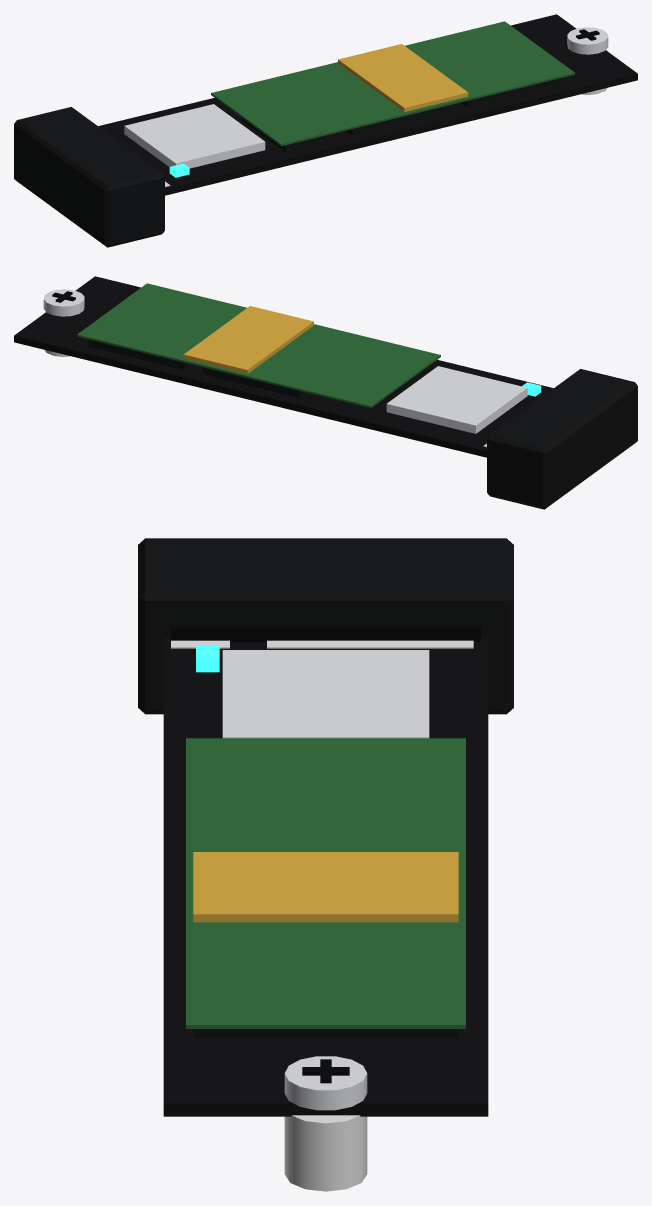
The model's file is hwm_sto_hdd_1tb.glb.
3 renders of one model, top to bottom at view 1: azimuth 30°, elevation 25°; view 2: azimuth 150°, elevation 25°; view 3: azimuth 270°, elevation 25°, orthographic. The views are drawn at different scales.
Visible parts, largest first — view 1: SSD_0, Slots, Screw_0; view 2: SSD_0, Slots, Screw_0; view 3: SSD_0, Slots, Screw_0.
Part boxes in pixels (left/top/right/bottom): SSD_0: left=98, top=14, right=637, bottom=195; Slots: left=14, top=49, right=607, bottom=247; Screw_0: left=567, top=27, right=608, bottom=54; SSD_0: left=14, top=276, right=553, bottom=457; Slots: left=44, top=311, right=637, bottom=509; Screw_0: left=43, top=289, right=84, bottom=316; SSD_0: left=163, top=637, right=488, bottom=1116; Slots: left=138, top=538, right=513, bottom=1191; Screw_0: left=284, top=1056, right=367, bottom=1110.
Size of the model in its own units: 0.0855 by 0.0092 by 0.0255.
